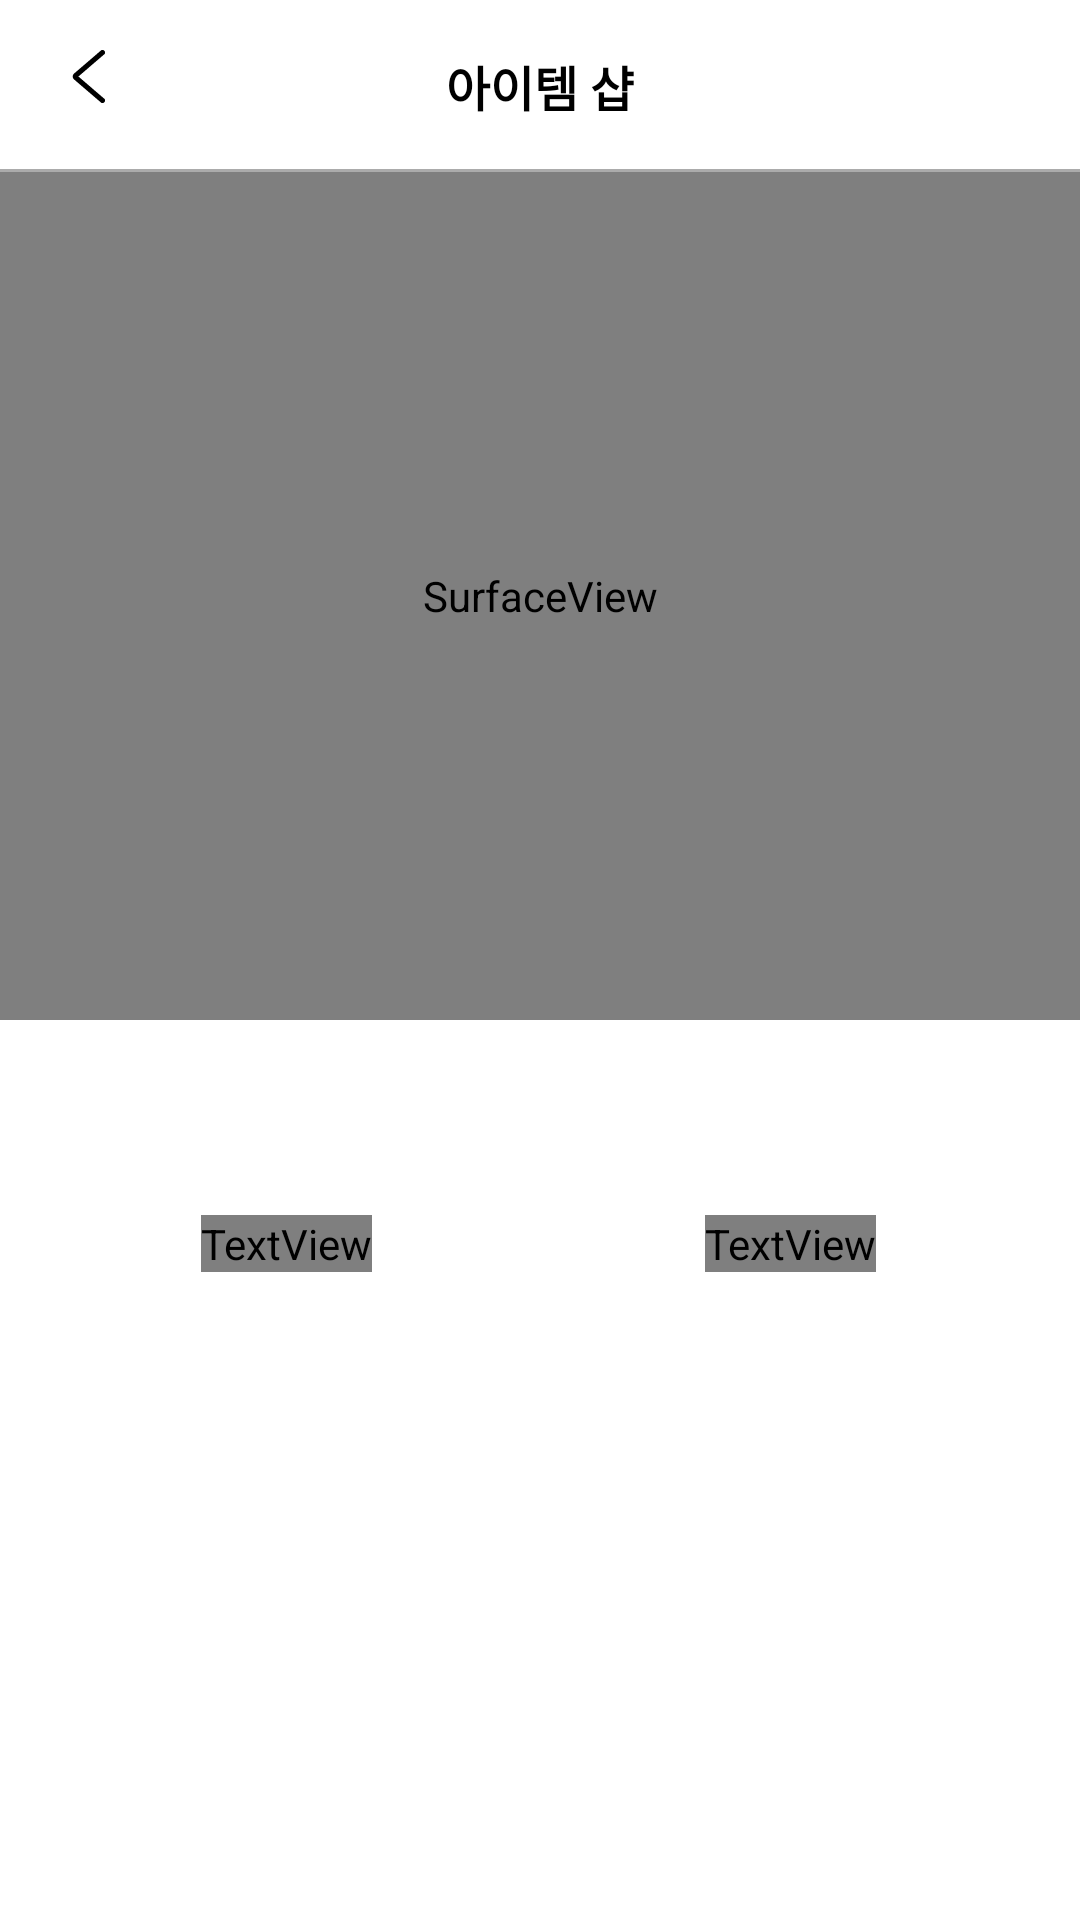

Named icons in this screenshot (1080w x 1920h) and their centers, point (x, y):
back arrow: point (88, 76)
